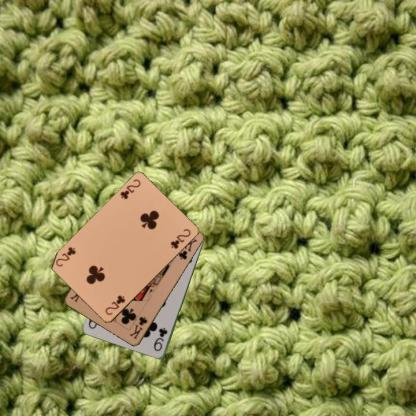2c: (103, 293, 126, 317), (118, 177, 141, 201)
9c: (151, 326, 169, 352)
Kc: (127, 314, 149, 340)
